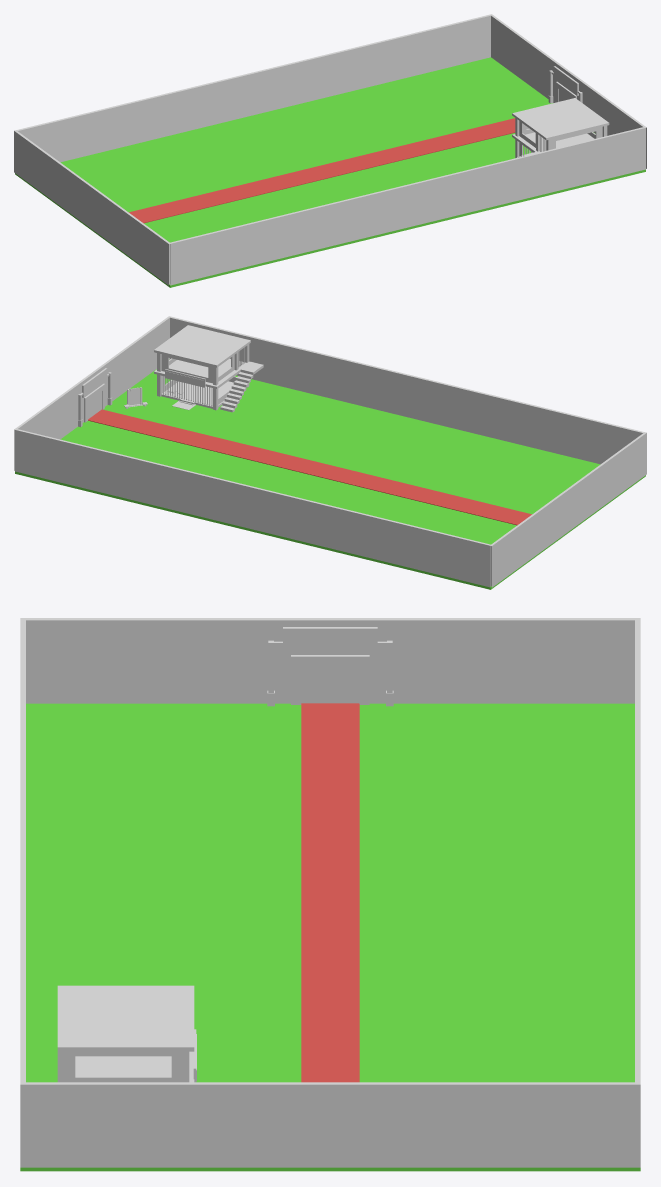
Rendered from Map (3).fbx.
3 views of the same model, one above another, from view 1: azimuth 30°, elevation 25°; view 2: azimuth 150°, elevation 25°; view 3: azimuth 270°, elevation 25° (orthographic). The views are drawn at different scales.
Parts seen in each view (by area): view 1: Base_Map, Zone_2, Zone_1; view 2: Base_Map, Zone_1, Zone_2, Base_Gate; view 3: Base_Map, Zone_2, Zone_1.
Boxes of the visible parts, box(x1,y1,x2,y2) form: Base_Map: box(14, 14, 646, 287); Zone_2: box(512, 98, 609, 151); Zone_1: box(512, 126, 594, 158); Base_Map: box(14, 316, 646, 589); Zone_1: box(154, 358, 263, 412); Zone_2: box(154, 325, 250, 385); Base_Gate: box(163, 376, 212, 406); Base_Map: box(20, 618, 640, 1171); Zone_2: box(57, 985, 194, 1082); Zone_1: box(75, 1029, 196, 1082).
Size of the model in its own units: 22817 by 2345 by 12824.
